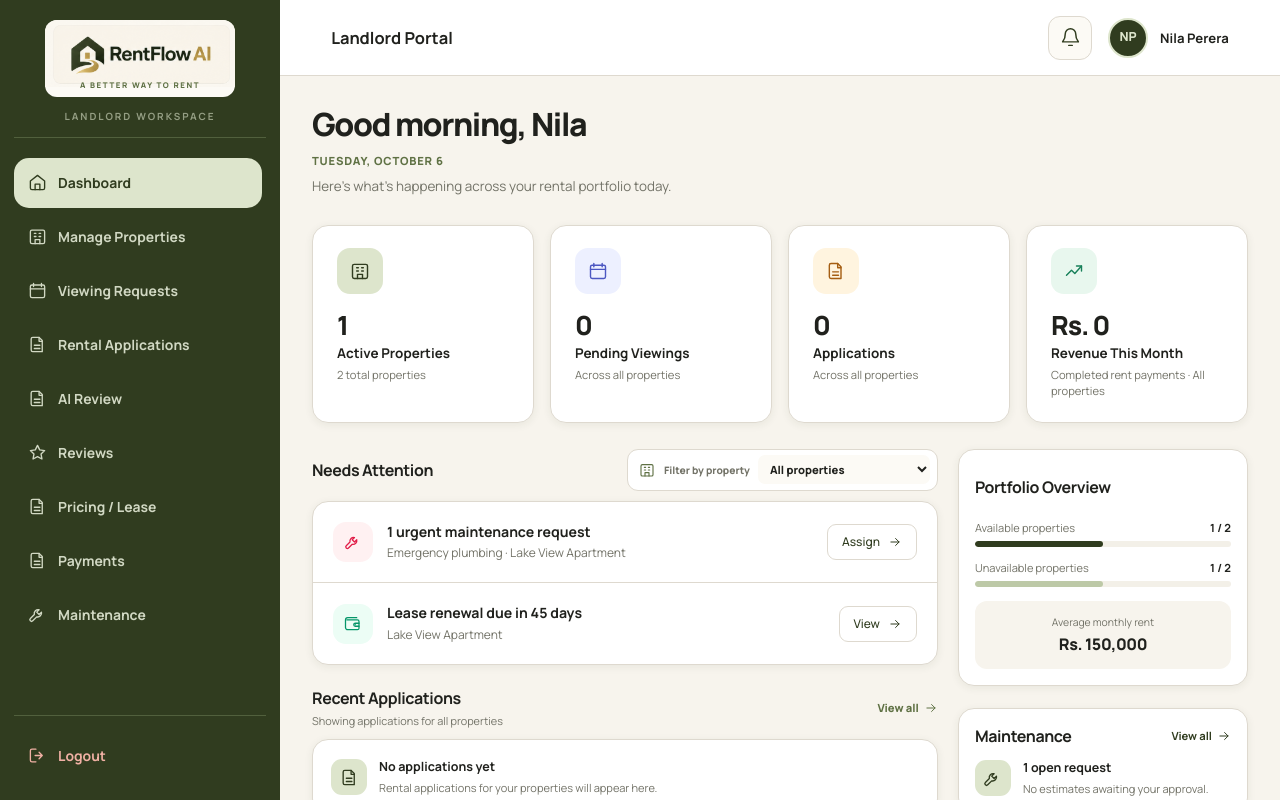
landlord dashboard redesign › routes maintenance and lease attention to their own records and scopes them by property
This screenshot has width=1280, height=800.
Expected: the heading "1 urgent maintenance request" is shown, x1=387 y1=522 x2=591 y2=541
Expected: the heading "Lease renewal due in 45 days" is shown, x1=387 y1=603 x2=582 y2=622
Select "Garden House" in the dropdown named "Filter dashboard by property": {"x": 844, "y": 470} x1=758 y1=455 x2=930 y2=484
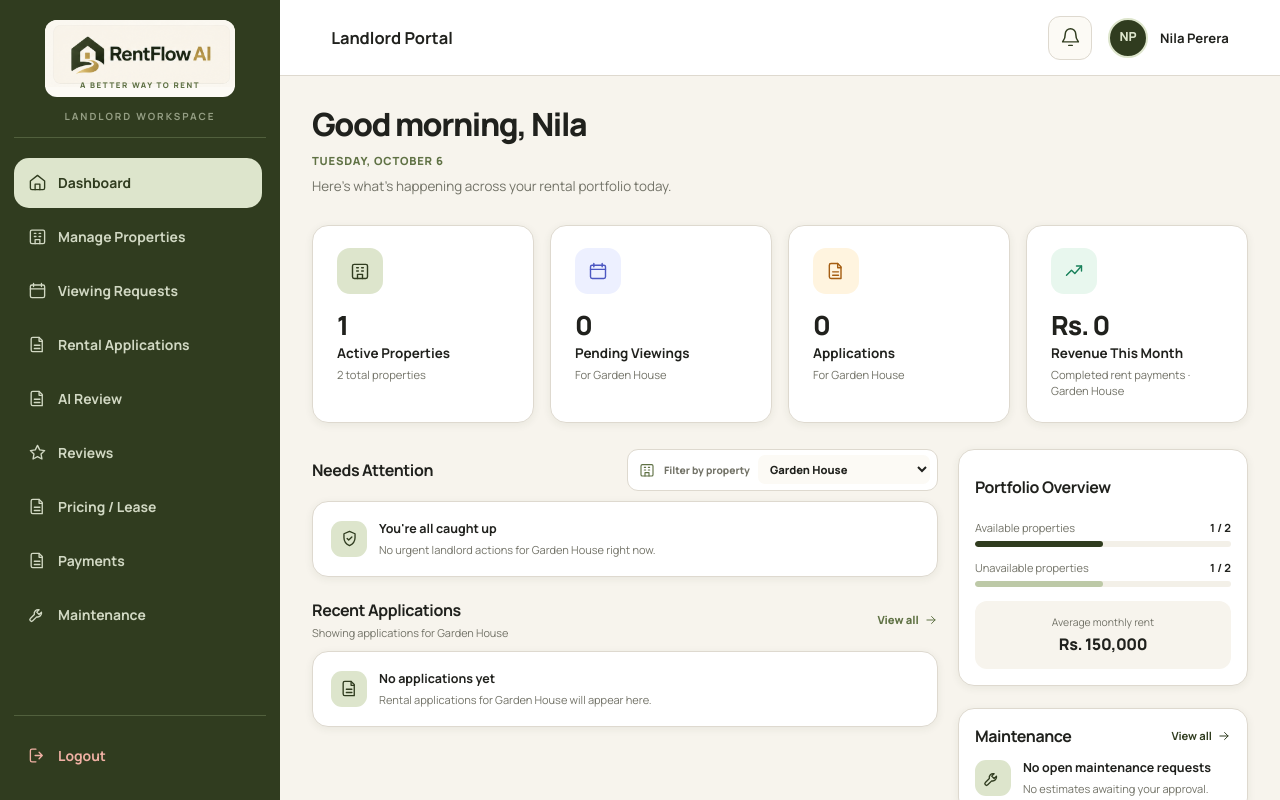
Expected: the heading "You're all caught up" is shown, x1=379 y1=520 x2=497 y2=537
Expected: the heading "1 urgent maintenance request" is gone
